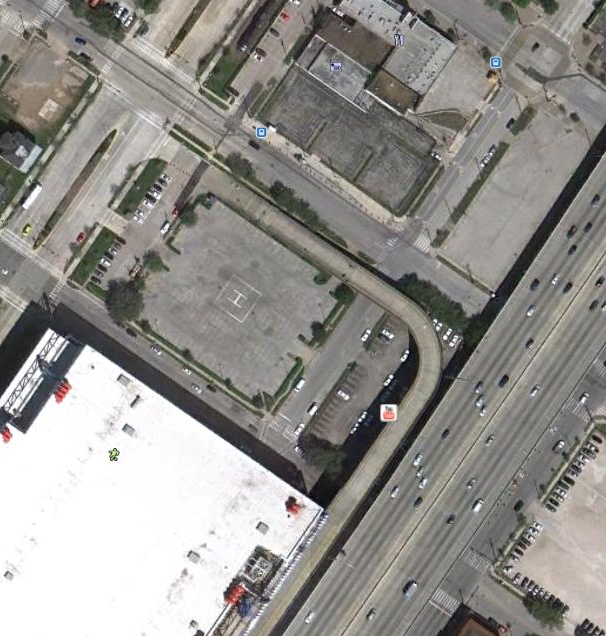heliport: (224, 288, 248, 310)
